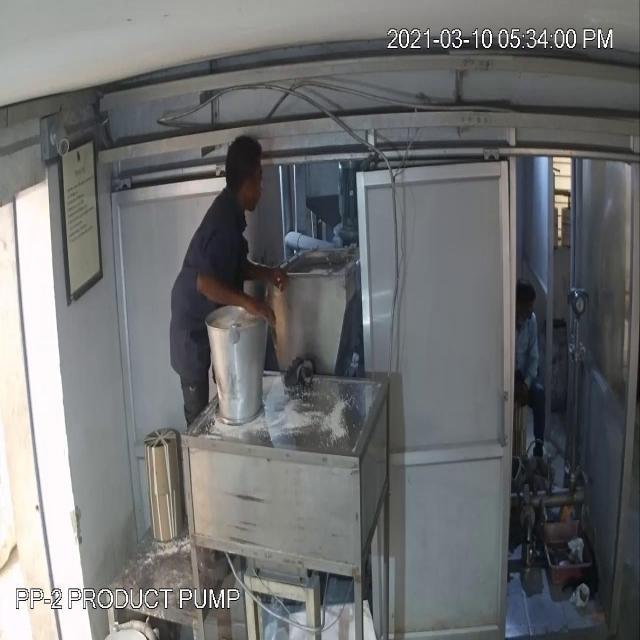No_Gloves: (190, 270, 278, 342)
